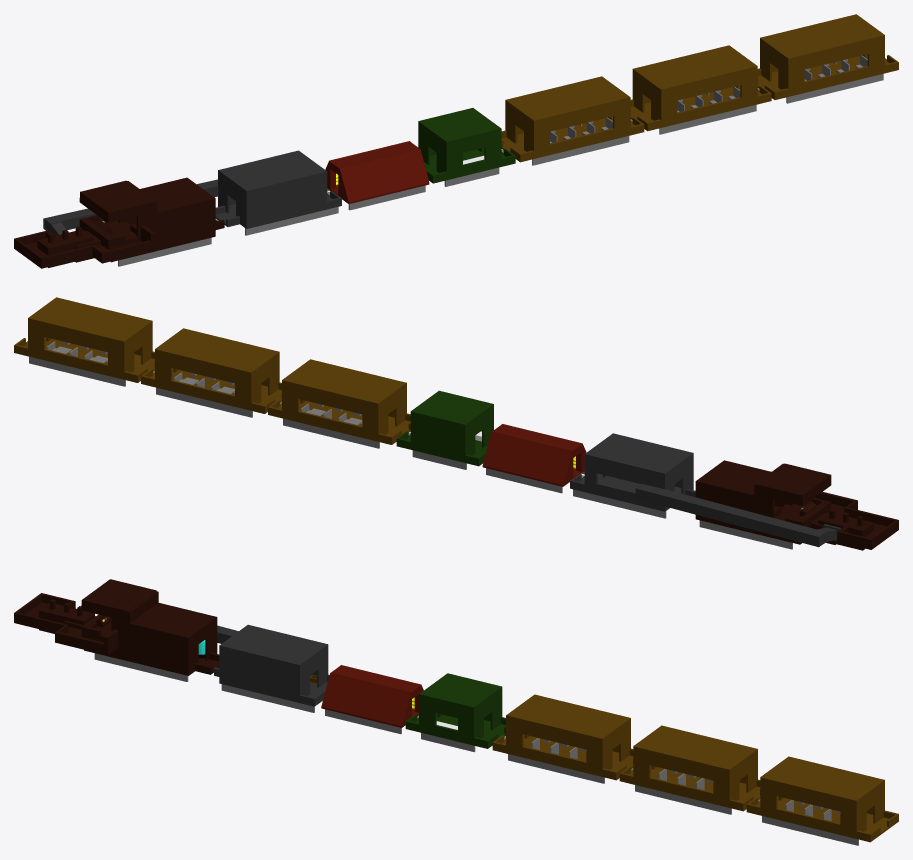
File: TrainTemp.fbx
3 renders of one model, top to bottom at view 1: azimuth 30°, elevation 25°; view 2: azimuth 150°, elevation 25°; view 3: azimuth 330°, elevation 25°, orthographic.
Visible parts, largest first — view 1: Cube__3__3, Cube__3__6, Cube__3__9, Cube__3__12, Cube__3__1, Cube__4__1, Cube, Cube__5_, Cube__3__4, Cube__3_, Cube_7, Cube_27 (+20 smaller); view 2: Cube__4__4, Cube__3__6, Cube__3__9, Cube__3__12, Cube__4__1, Cube__1__5, Cube__16__3, Cube__5_, Cube__3__4, Cube__3_, Cube__14__3, Cube__1__6 (+20 smaller); view 3: Cube__3__3, Cube__3__9, Cube__3__12, Cube__3__6, Cube__3__1, Cube__4__1, Cube, Cube__3_, Cube__3__4, Cube__5_, Cube_27, Cube_17 (+19 smaller).
Part boxes in pixels (x1=…): Cube__3__3: x1=339, y1=148, x2=429, y2=202; Cube__3__6: x1=505, y1=76, x2=630, y2=122; Cube__3__9: x1=632, y1=45, x2=757, y2=91; Cube__3__12: x1=760, y1=14, x2=884, y2=60; Cube__3__1: x1=245, y1=173, x2=327, y2=227; Cube__4__1: x1=218, y1=150, x2=327, y2=192; Cube: x1=150, y1=200, x2=215, y2=249; Cube__5_: x1=80, y1=180, x2=154, y2=218; Cube__3__4: x1=418, y1=108, x2=501, y2=143; Cube__3_: x1=140, y1=177, x2=215, y2=215; Cube_7: x1=532, y1=99, x2=630, y2=135; Cube_27: x1=787, y1=37, x2=884, y2=73; Cube__4__4: x1=482, y1=431, x2=572, y2=485; Cube__3__6: x1=282, y1=359, x2=406, y2=405; Cube__3__9: x1=155, y1=328, x2=279, y2=374; Cube__3__12: x1=28, y1=297, x2=152, y2=343; Cube__4__1: x1=584, y1=433, x2=693, y2=475; Cube__1__5: x1=410, y1=413, x2=466, y2=460; Cube__16__3: x1=636, y1=488, x2=819, y2=546; Cube__5_: x1=756, y1=463, x2=831, y2=501; Cube__3__4: x1=410, y1=390, x2=493, y2=426; Cube__3_: x1=695, y1=460, x2=771, y2=498; Cube__14__3: x1=638, y1=484, x2=825, y2=537; Cube__1__6: x1=282, y1=382, x2=379, y2=418; Cube__3__3: x1=321, y1=672, x2=411, y2=726; Cube__3__9: x1=633, y1=725, x2=757, y2=771; Cube__3__12: x1=760, y1=756, x2=884, y2=802; Cube__3__6: x1=506, y1=694, x2=630, y2=740; Cube__3__1: x1=219, y1=647, x2=301, y2=701; Cube__4__1: x1=219, y1=624, x2=328, y2=666; Cube: x1=123, y1=623, x2=189, y2=674; Cube__3_: x1=123, y1=602, x2=217, y2=639; Cube__3__4: x1=419, y1=673, x2=502, y2=708; Cube__5_: x1=81, y1=579, x2=156, y2=615; Cube_27: x1=760, y1=779, x2=857, y2=815; Cube_17: x1=633, y1=748, x2=730, y2=784.
Size of the model in its own units: 11397 by 735 by 1129.
